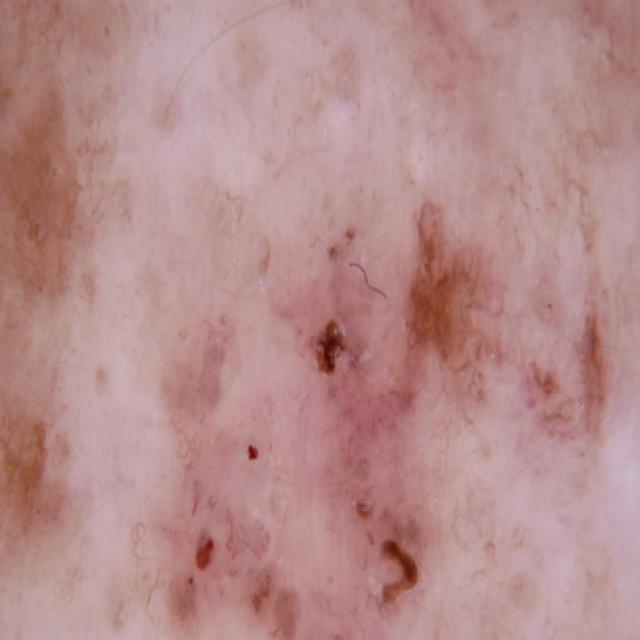Carcinoma: (120, 135, 624, 640)
